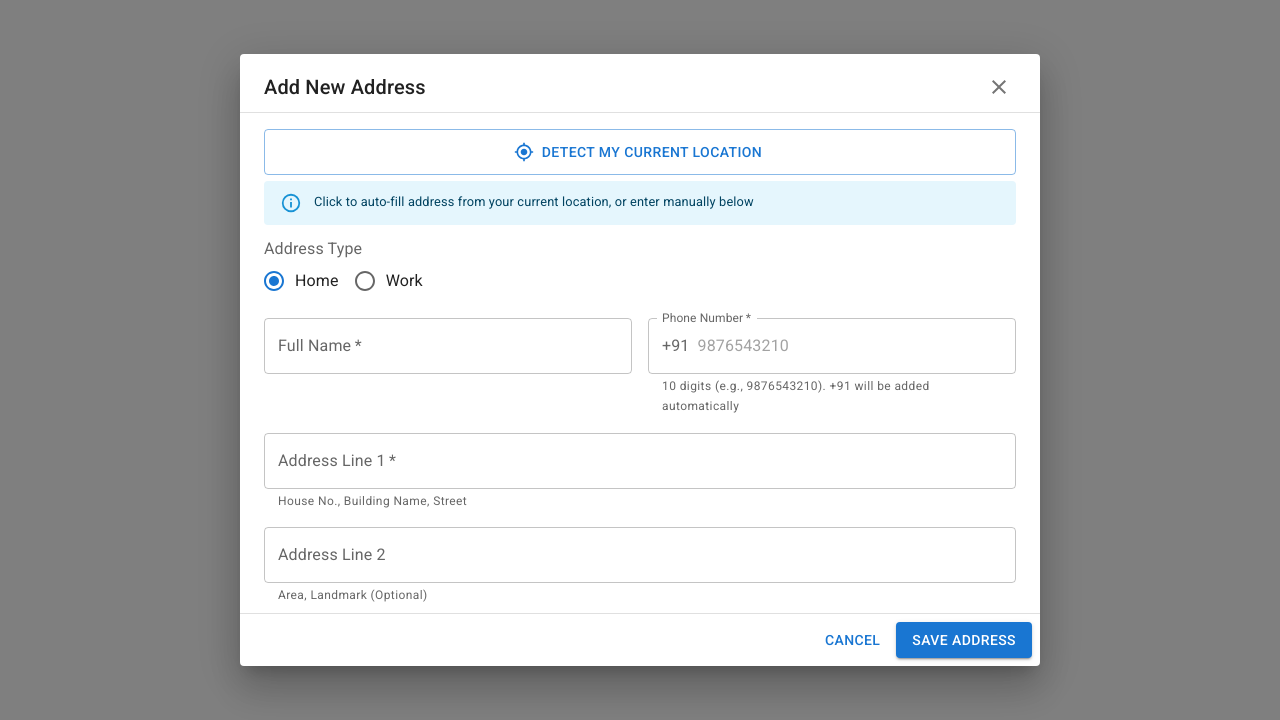
it: AddressForm Component › Form Validation › validates Indian phone number format
Note: Invalid phone
Type "123456789" into the field labelled "Phone Number *" at (857, 346), box [698,318,1016,374]
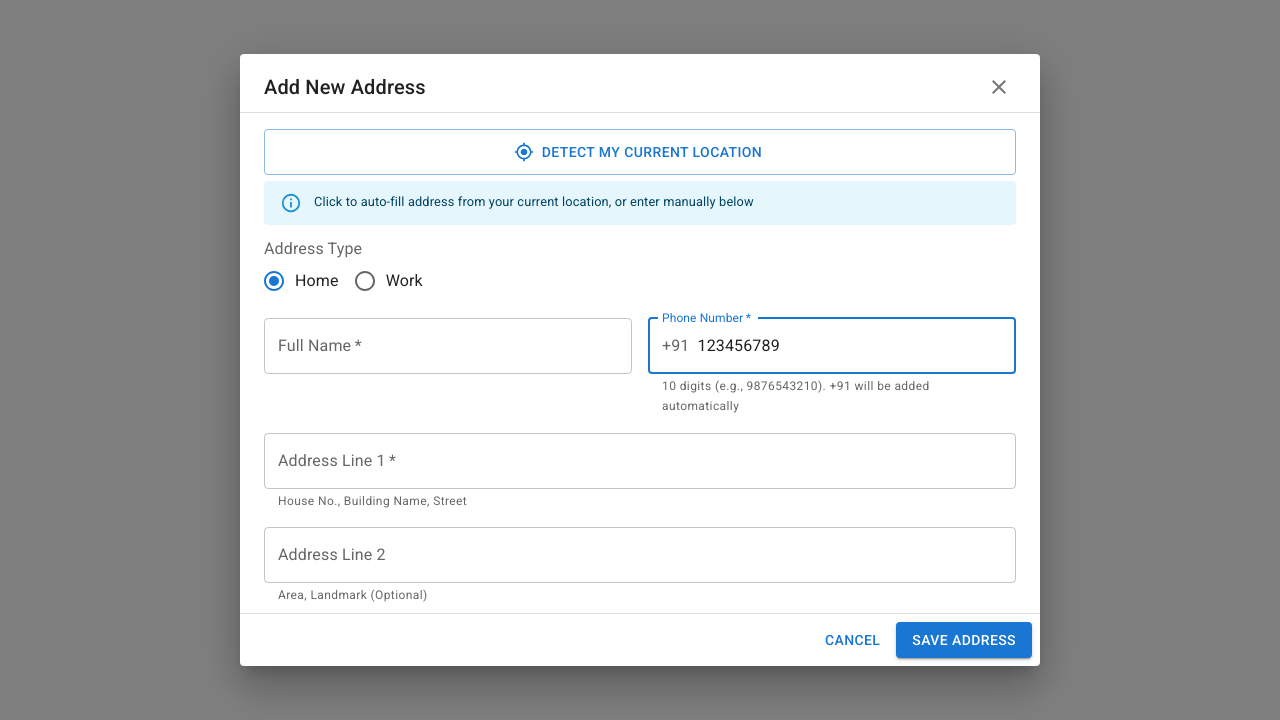
Click the button "Save Address" at (964, 640), box [896,622,1032,658]
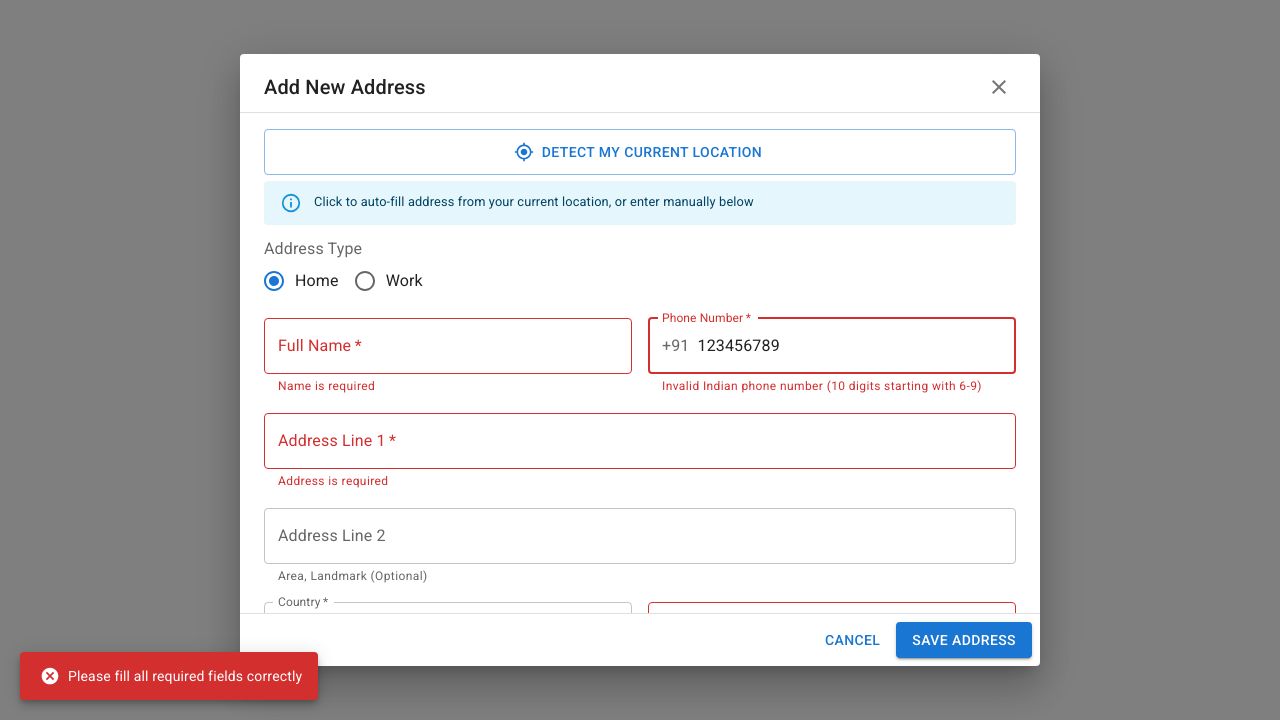
Now the text "Invalid Indian phone number (10 digits starting with 6-9)" is shown, box [662,377,1002,397]
